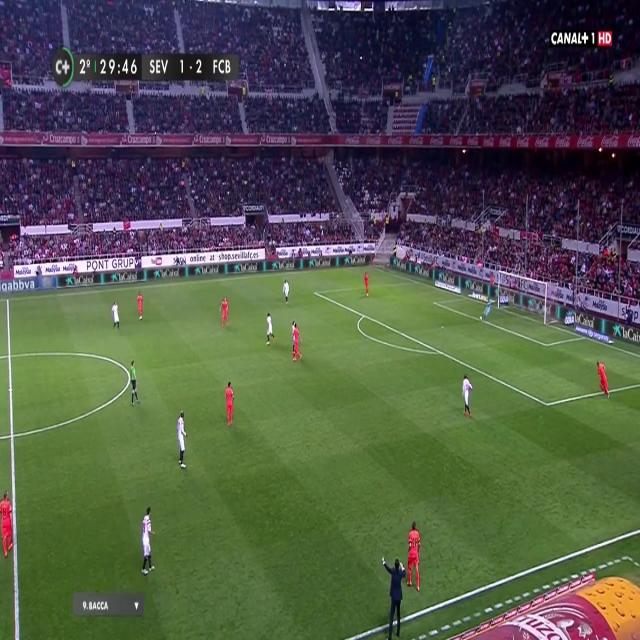Ball: (479, 314, 484, 322)
Goalkeeper: (482, 294, 497, 320)
Player: (407, 517, 423, 596), (140, 505, 156, 580), (0, 489, 15, 561), (176, 409, 188, 476), (594, 358, 612, 402), (461, 375, 474, 423), (224, 381, 236, 428), (264, 312, 276, 350), (218, 295, 230, 330), (110, 299, 121, 333), (292, 324, 302, 361), (362, 270, 373, 299), (136, 291, 144, 325), (282, 277, 291, 306)
Referee: (129, 359, 141, 406)
